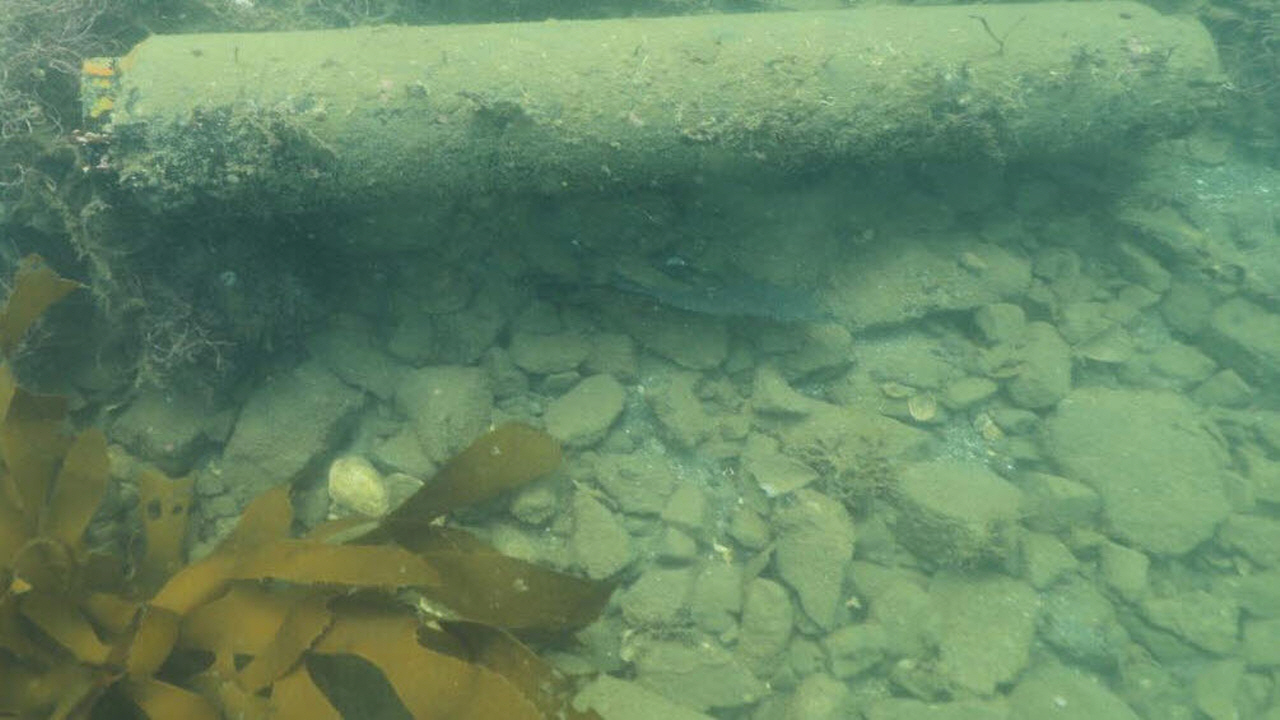eel fish trap: (79, 0, 1221, 225)
